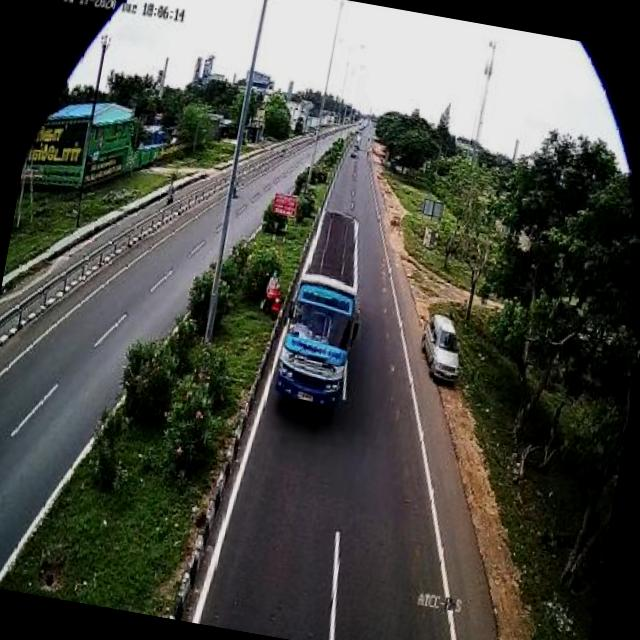car: (419, 313, 464, 384)
